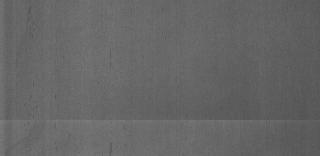welding line: (1, 115, 319, 127)
